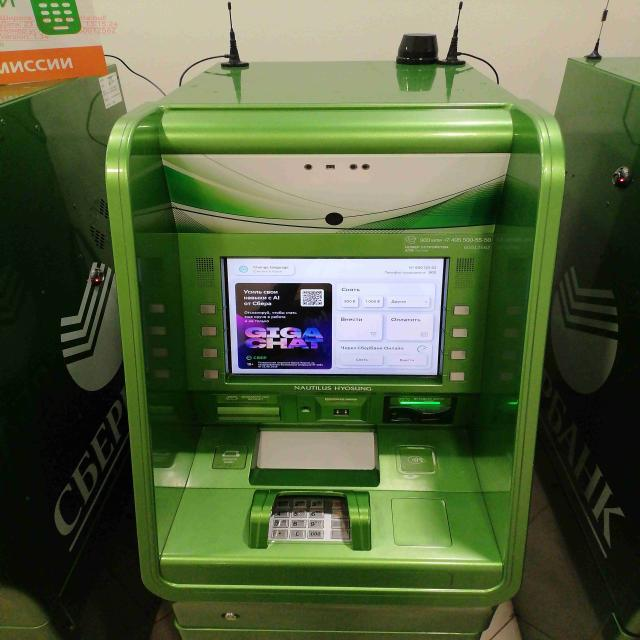bank: (102, 58, 556, 640), (0, 62, 134, 640), (547, 57, 640, 640)
